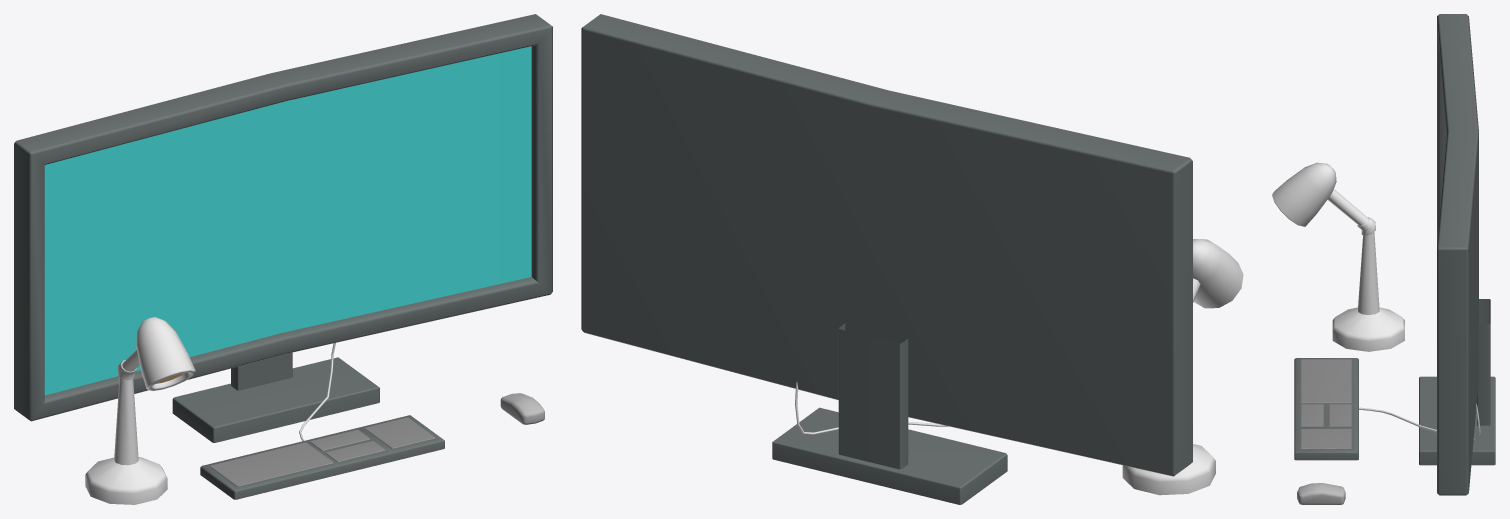
The model's file is Pc_with_big_screen.fbx.
3 views of the same model, side by side, from view 1: azimuth 30°, elevation 25°; view 2: azimuth 150°, elevation 25°; view 3: azimuth 270°, elevation 25° (orthographic). The views are drawn at different scales.
Visible parts, largest first — view 1: Big_scrren, Board, Lamp, Mouse; view 2: Big_scrren, Lamp; view 3: Big_scrren, Lamp, Board, Mouse.
Boxes of the visible parts, x1=… form: Big_scrren: x1=14, y1=14, x2=552, y2=442; Board: x1=200, y1=343, x2=444, y2=499; Lamp: x1=85, y1=317, x2=195, y2=504; Mouse: x1=500, y1=393, x2=544, y2=424; Big_scrren: x1=581, y1=14, x2=1192, y2=504; Lamp: x1=1122, y1=239, x2=1243, y2=495; Big_scrren: x1=1419, y1=14, x2=1495, y2=495; Lamp: x1=1272, y1=162, x2=1404, y2=351; Board: x1=1294, y1=358, x2=1480, y2=460; Mouse: x1=1297, y1=483, x2=1345, y2=504.
Bounding box in the file's own units: 3.13 × 1.86 × 1.26.
